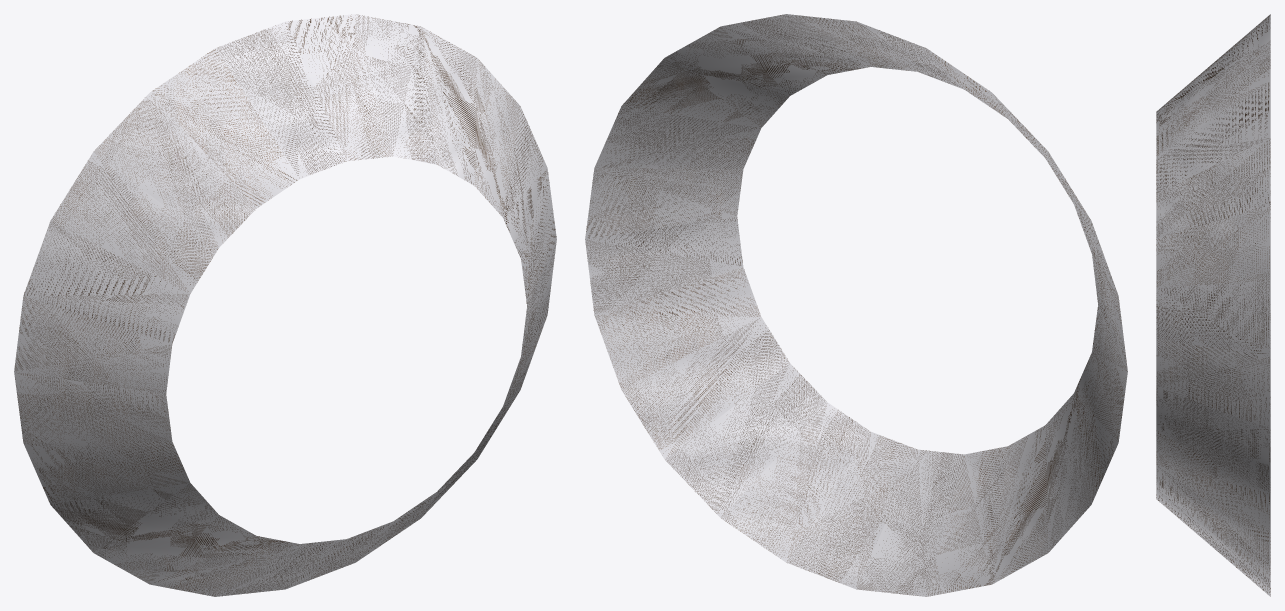
The model's file is original-142.obj.
The picture shows the model from 3 angles, left to right: view 1: azimuth 30°, elevation 25°; view 2: azimuth 150°, elevation 25°; view 3: azimuth 270°, elevation 25°; orthographic projection. The views are drawn at different scales.
Visible parts, largest first — view 1: mesh27/mesh27-geometry/material_0/component_1#mesh27-geometry; view 2: mesh27/mesh27-geometry/material_0/component_1#mesh27-geometry; view 3: mesh27/mesh27-geometry/material_0/component_1#mesh27-geometry.
Boxes of the visible parts, box(x1,y1,x2,y2) form: mesh27/mesh27-geometry/material_0/component_1#mesh27-geometry: box(14, 14, 556, 596); mesh27/mesh27-geometry/material_0/component_1#mesh27-geometry: box(585, 14, 1127, 596); mesh27/mesh27-geometry/material_0/component_1#mesh27-geometry: box(1156, 14, 1270, 596).
Size of the model in its own units: 0.0875 by 0.0875 by 0.0171.
